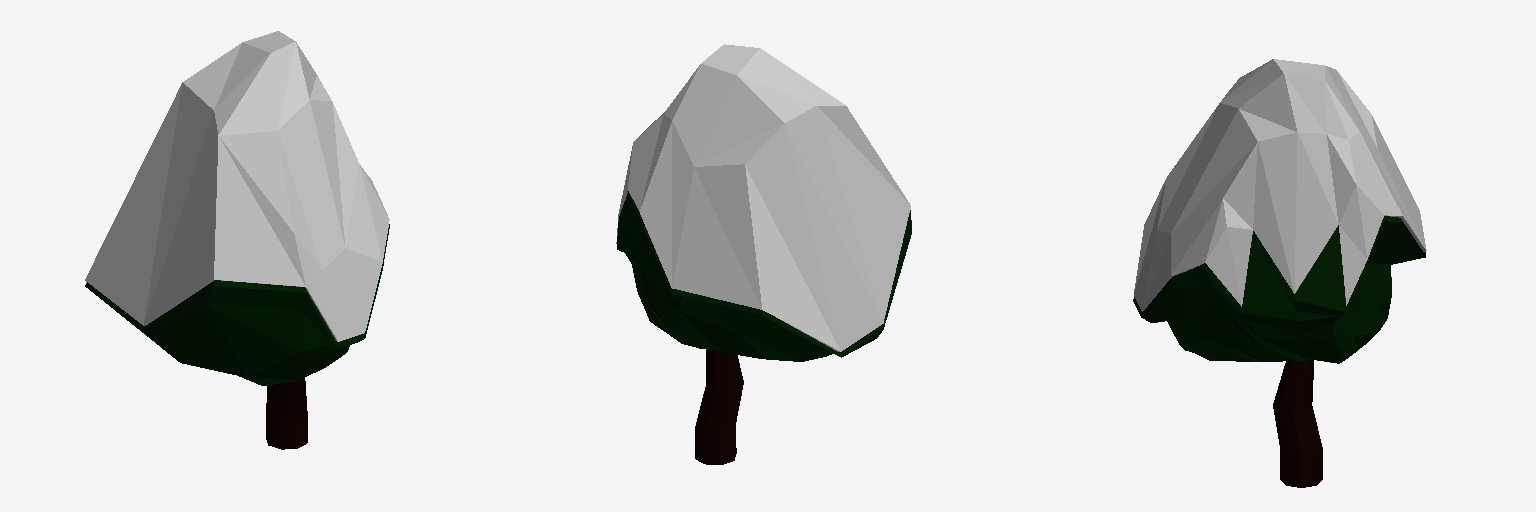
File: snowTree2.obj
3 views of the same model, side by side, from view 1: azimuth 30°, elevation 25°; view 2: azimuth 150°, elevation 25°; view 3: azimuth 270°, elevation 25° (orthographic).
Visible parts, largest first — view 1: Cube.011, Cube.010, Cylinder.006; view 2: Cube.011, Cube.010, Cylinder.006; view 3: Cube.011, Cube.010, Cylinder.006.
Part boxes in pixels (x1,y1,x2,y2): Cube.011: (85,31,389,341); Cube.010: (85,224,389,385); Cylinder.006: (266,378,307,449); Cube.011: (616,44,910,351); Cube.010: (617,191,911,361); Cylinder.006: (695,350,743,464); Cube.011: (1134,59,1426,311); Cube.010: (1133,216,1425,363); Cylinder.006: (1273,360,1322,487).
Bounding box in the file's own units: 13.09 × 20.77 × 13.62.